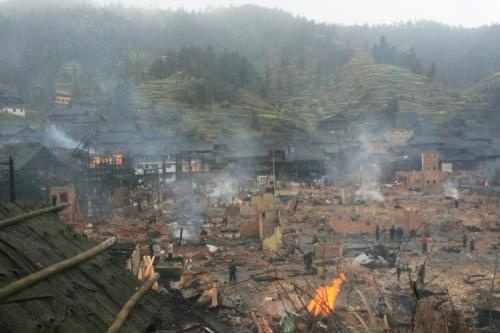fire: (306, 270, 345, 316), (89, 151, 124, 166)
